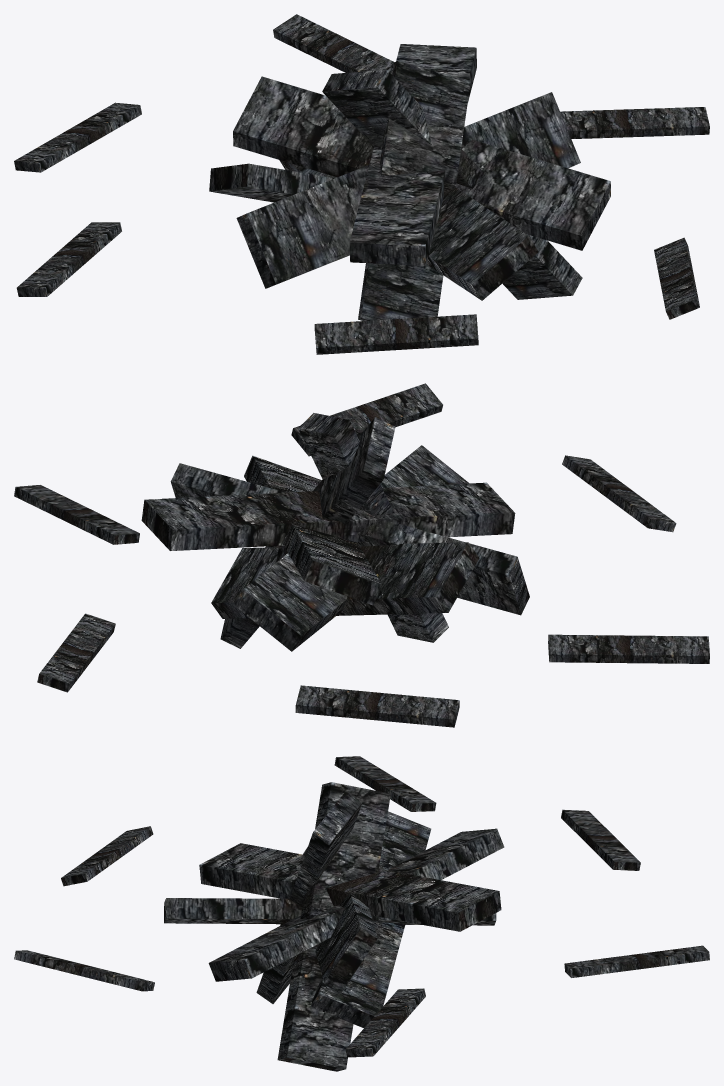
File: Small Fire Standalone.fbx
3 renders of one model, top to bottom at view 1: azimuth 30°, elevation 25°; view 2: azimuth 150°, elevation 25°; view 3: azimuth 270°, elevation 25°, orthographic. The views are drawn at different scales.
Visible parts, largest first — view 1: Small Fire Standalone; view 2: Small Fire Standalone; view 3: Small Fire Standalone.
Part boxes in pixels (<box>): Small Fire Standalone: <box>14,14,709,354</box>; Small Fire Standalone: <box>14,383,709,727</box>; Small Fire Standalone: <box>14,756,709,1071</box>.
Bounding box in the file's own units: 101 × 36.76 × 99.74.
